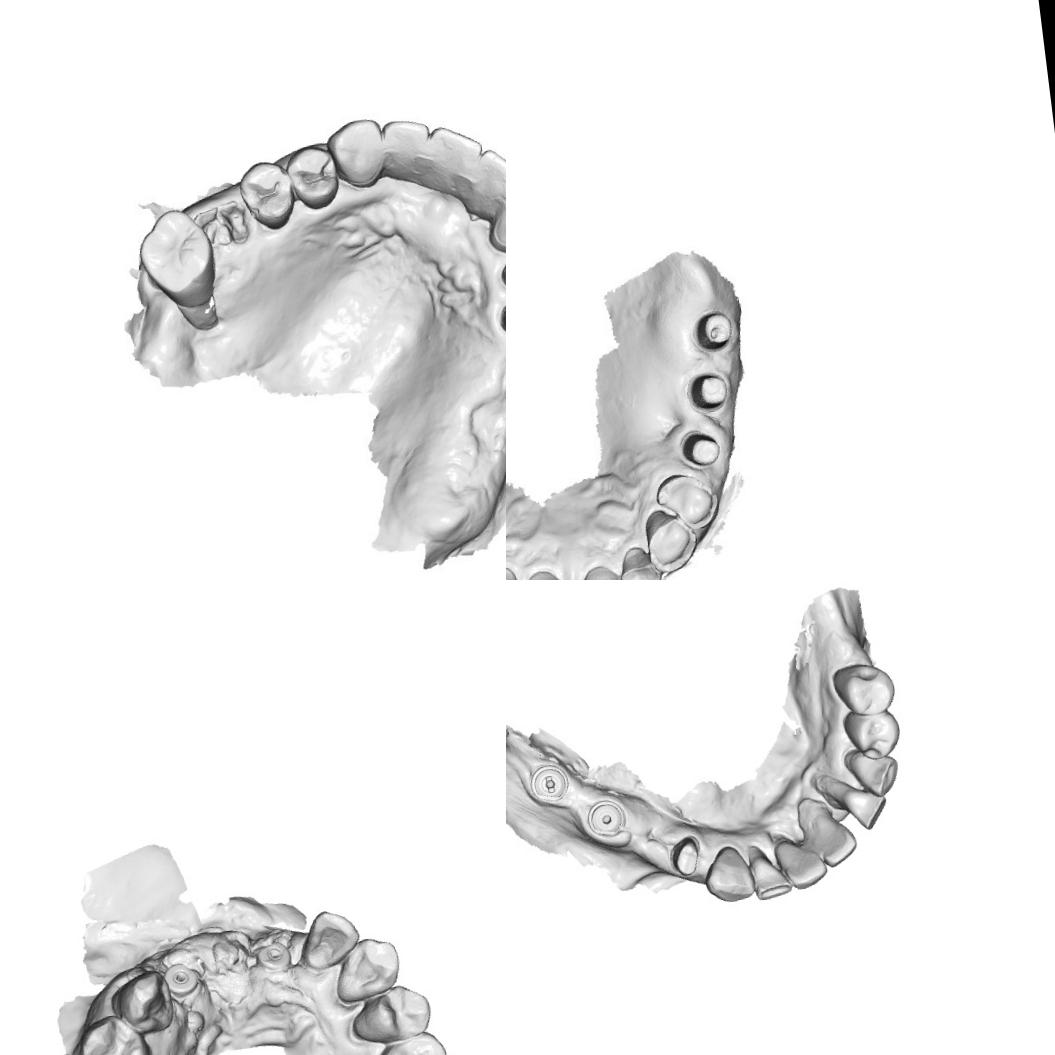abutment: (684, 367, 736, 415), (677, 424, 723, 472), (692, 307, 738, 355)
canine: (328, 934, 408, 1002), (324, 114, 388, 196), (109, 968, 178, 1036), (642, 506, 699, 575), (699, 842, 757, 905), (840, 742, 902, 800)
crown: (666, 833, 705, 879)
implant: (584, 796, 629, 841), (257, 936, 294, 974), (165, 961, 202, 997)
implant_minus: (526, 761, 572, 806)
incisor: (797, 796, 860, 871), (296, 904, 365, 970), (424, 125, 482, 185), (380, 109, 431, 176), (773, 833, 830, 892), (746, 840, 794, 902), (464, 143, 506, 211), (846, 786, 890, 832), (617, 543, 664, 580), (570, 559, 641, 580), (488, 191, 506, 255)
molar: (127, 203, 224, 312)
premolar: (344, 978, 437, 1050), (237, 156, 302, 238), (651, 469, 722, 535), (285, 136, 343, 214), (830, 660, 898, 720), (75, 1010, 155, 1055), (840, 706, 904, 762), (360, 1027, 453, 1055)
